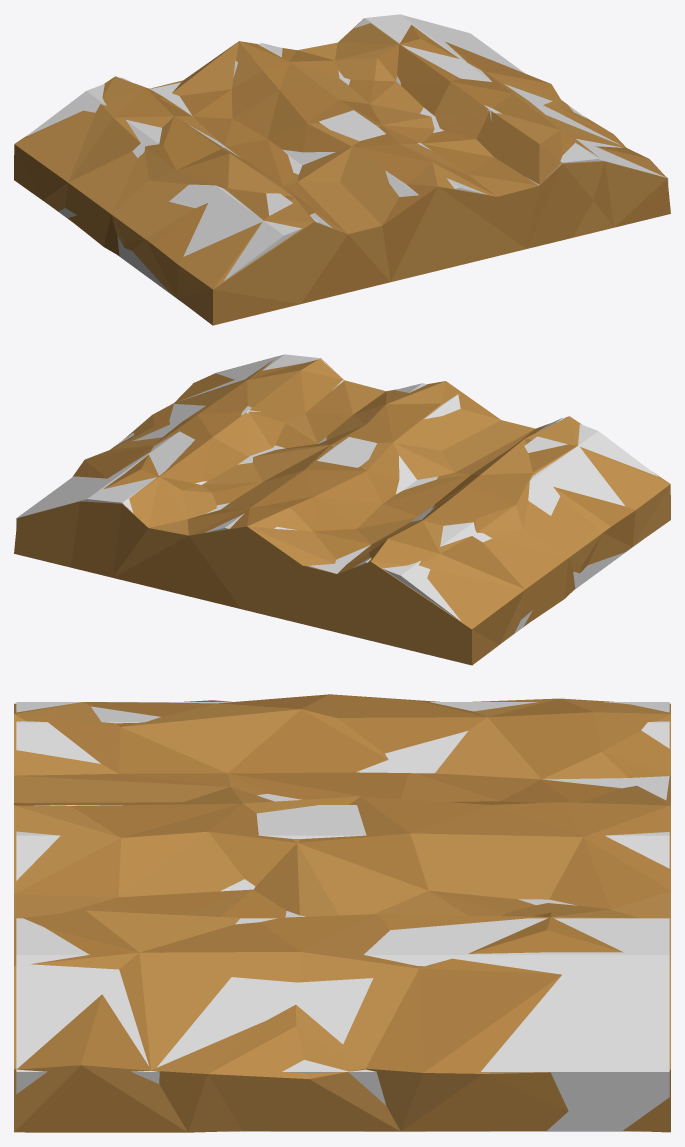
File: Дорога.fbx
The picture shows the model from 3 angles, top to bottom: view 1: azimuth 30°, elevation 25°; view 2: azimuth 150°, elevation 25°; view 3: azimuth 270°, elevation 25°; orthographic projection. The views are drawn at different scales.
Parts seen in each view (by area): view 1: Дорога, l1; view 2: Дорога, l1; view 3: Дорога, l1.
Part boxes in pixels (<box>): Дорога: <box>14,18,670,325</box>; l1: <box>26,14,668,301</box>; Дорога: <box>14,356,670,665</box>; l1: <box>16,354,658,638</box>; Дорога: <box>14,694,670,1132</box>; l1: <box>16,702,669,1131</box>.
Size of the model in its own units: 16585 by 2891 by 12314.
